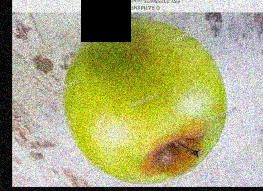rotten apple: (57, 15, 229, 185)
